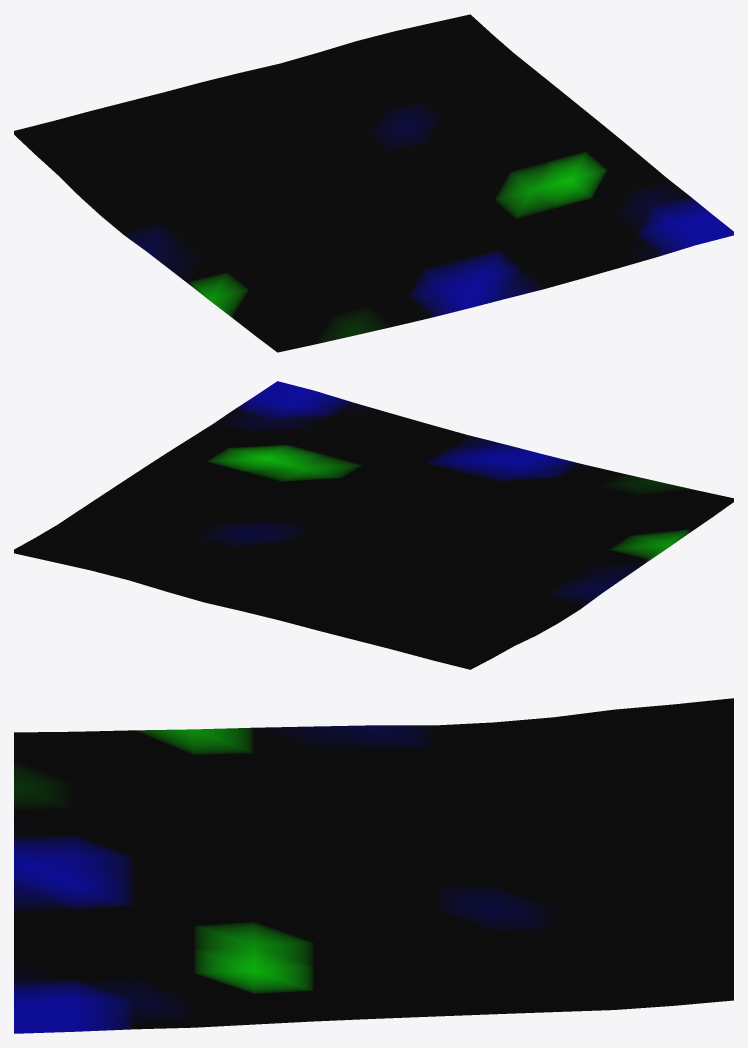
The model's file is coast_11_4.glb.
3 views of the same model, one above another, from view 1: azimuth 30°, elevation 25°; view 2: azimuth 150°, elevation 25°; view 3: azimuth 270°, elevation 25° (orthographic). The views are drawn at different scales.
Visible parts, largest first — view 1: terrain; view 2: terrain; view 3: terrain.
Part boxes in pixels (x1,y1,x2,y2): terrain: (14,14,733,352); terrain: (14,381,733,669); terrain: (14,698,733,1033).
Size of the model in its own units: 192 by 15.4 by 192.
